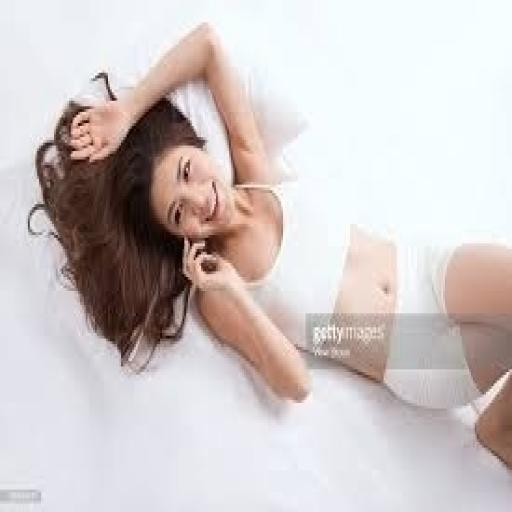calling: (26, 16, 510, 476)
